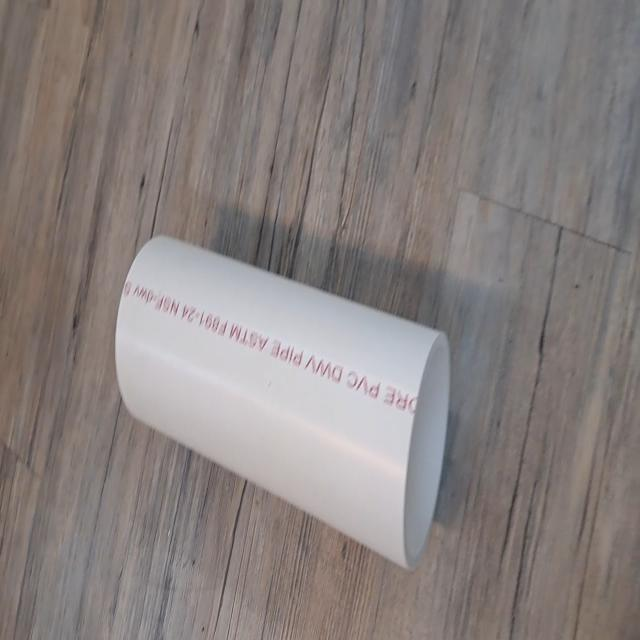CORAL: (112, 231, 455, 578)
